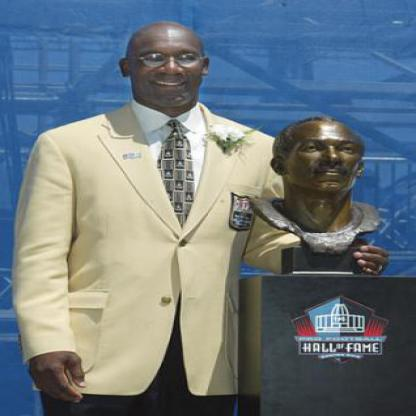face: (129, 24, 207, 109), (284, 118, 364, 198)
